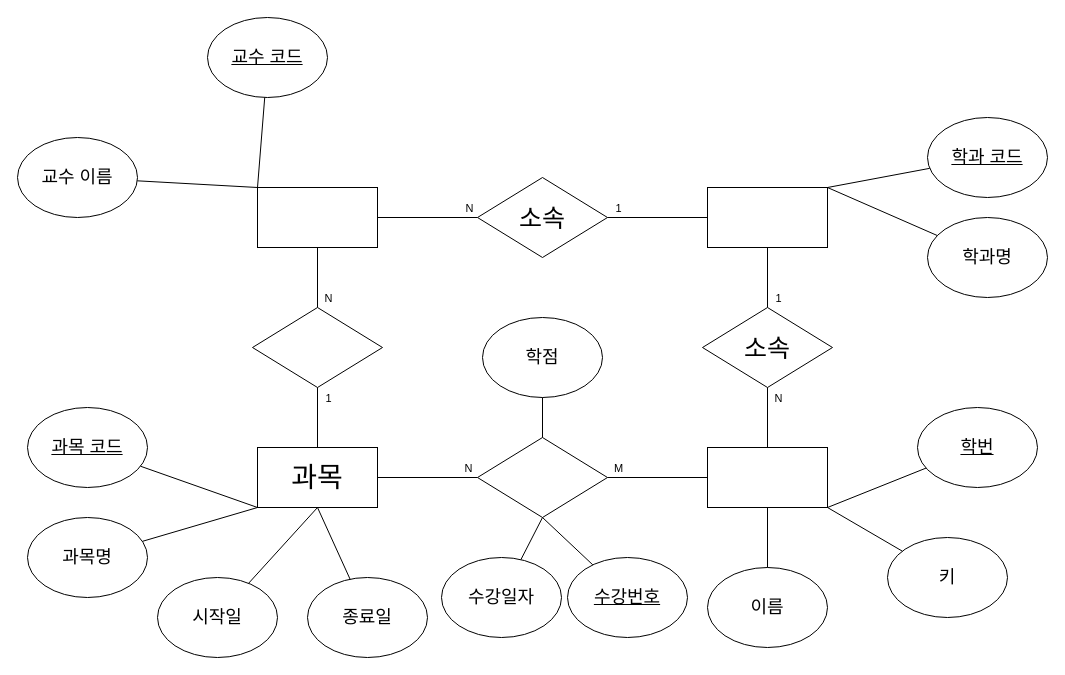
This 1065x675 diagram has some shape labels left out. The shapes that lost their labels are listed below. From the top down, each one's centre as x and y in pixels, then its label:
At [317,217]: "교수".
At [767,217]: "학과".
At [317,347]: "강의".
At [542,477]: "수강".
At [767,477]: "학생".
